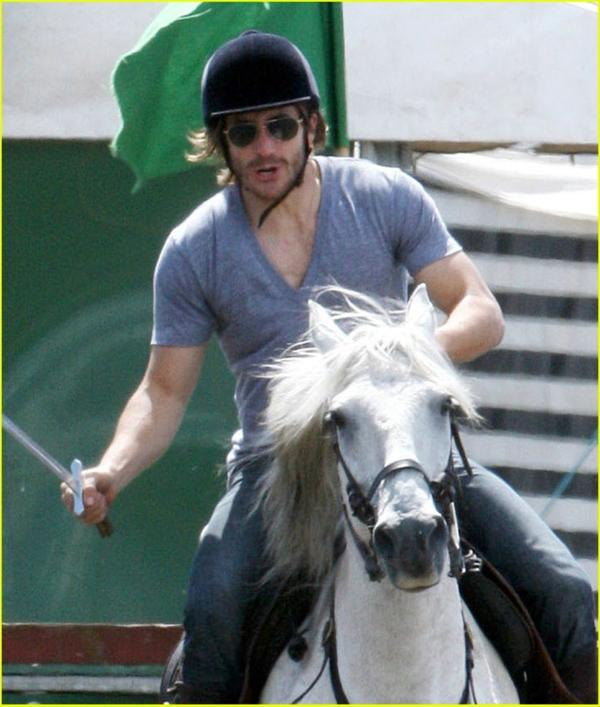person: (59, 26, 600, 703)
